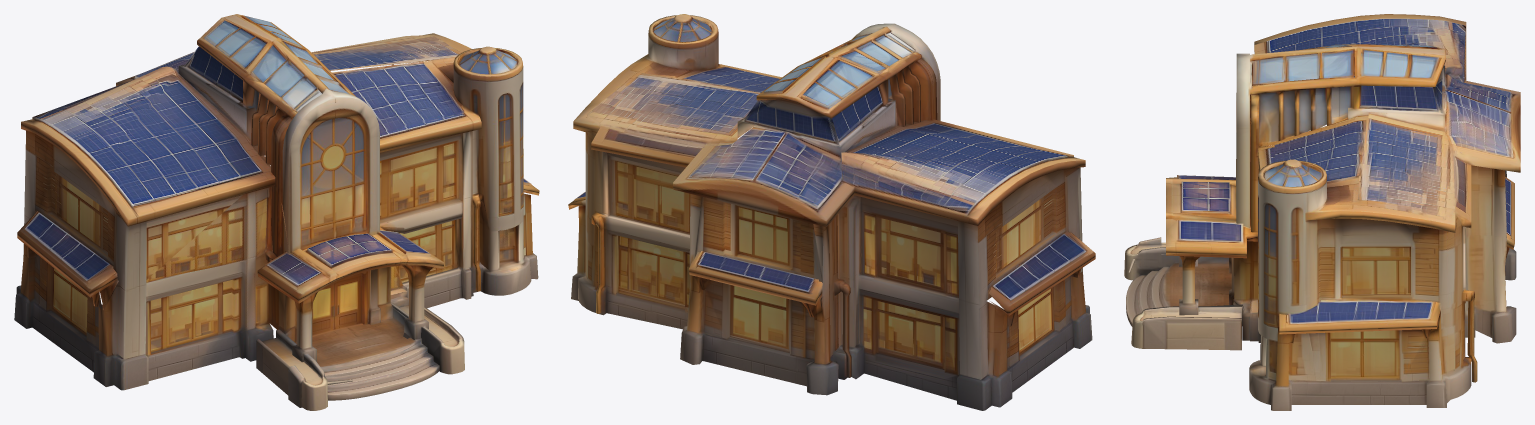
Rendered from school.glb.
3 views of the same model, side by side, from view 1: azimuth 30°, elevation 25°; view 2: azimuth 150°, elevation 25°; view 3: azimuth 270°, elevation 25° (orthographic).
Parts seen in each view (by area): view 1: tripo_905b14bd_a1f2_4bea_9cde_8aeadbc5757d; view 2: tripo_905b14bd_a1f2_4bea_9cde_8aeadbc5757d; view 3: tripo_905b14bd_a1f2_4bea_9cde_8aeadbc5757d.
Part boxes in pixels (left/top/right/bottom): tripo_905b14bd_a1f2_4bea_9cde_8aeadbc5757d: left=14, top=14, right=539, bottom=410; tripo_905b14bd_a1f2_4bea_9cde_8aeadbc5757d: left=568, top=14, right=1095, bottom=410; tripo_905b14bd_a1f2_4bea_9cde_8aeadbc5757d: left=1124, top=14, right=1520, bottom=410.
Bounding box in the file's own units: 0.9995 × 0.5688 × 0.771.
1 material, 1 textured.
